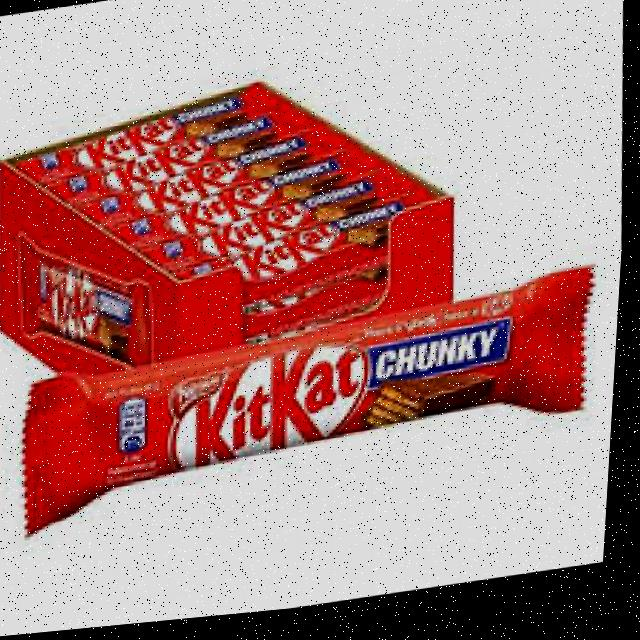kitkat: (18, 275, 609, 539), (155, 205, 435, 319), (78, 138, 322, 255), (151, 179, 398, 292), (116, 155, 357, 261), (11, 90, 261, 189)
